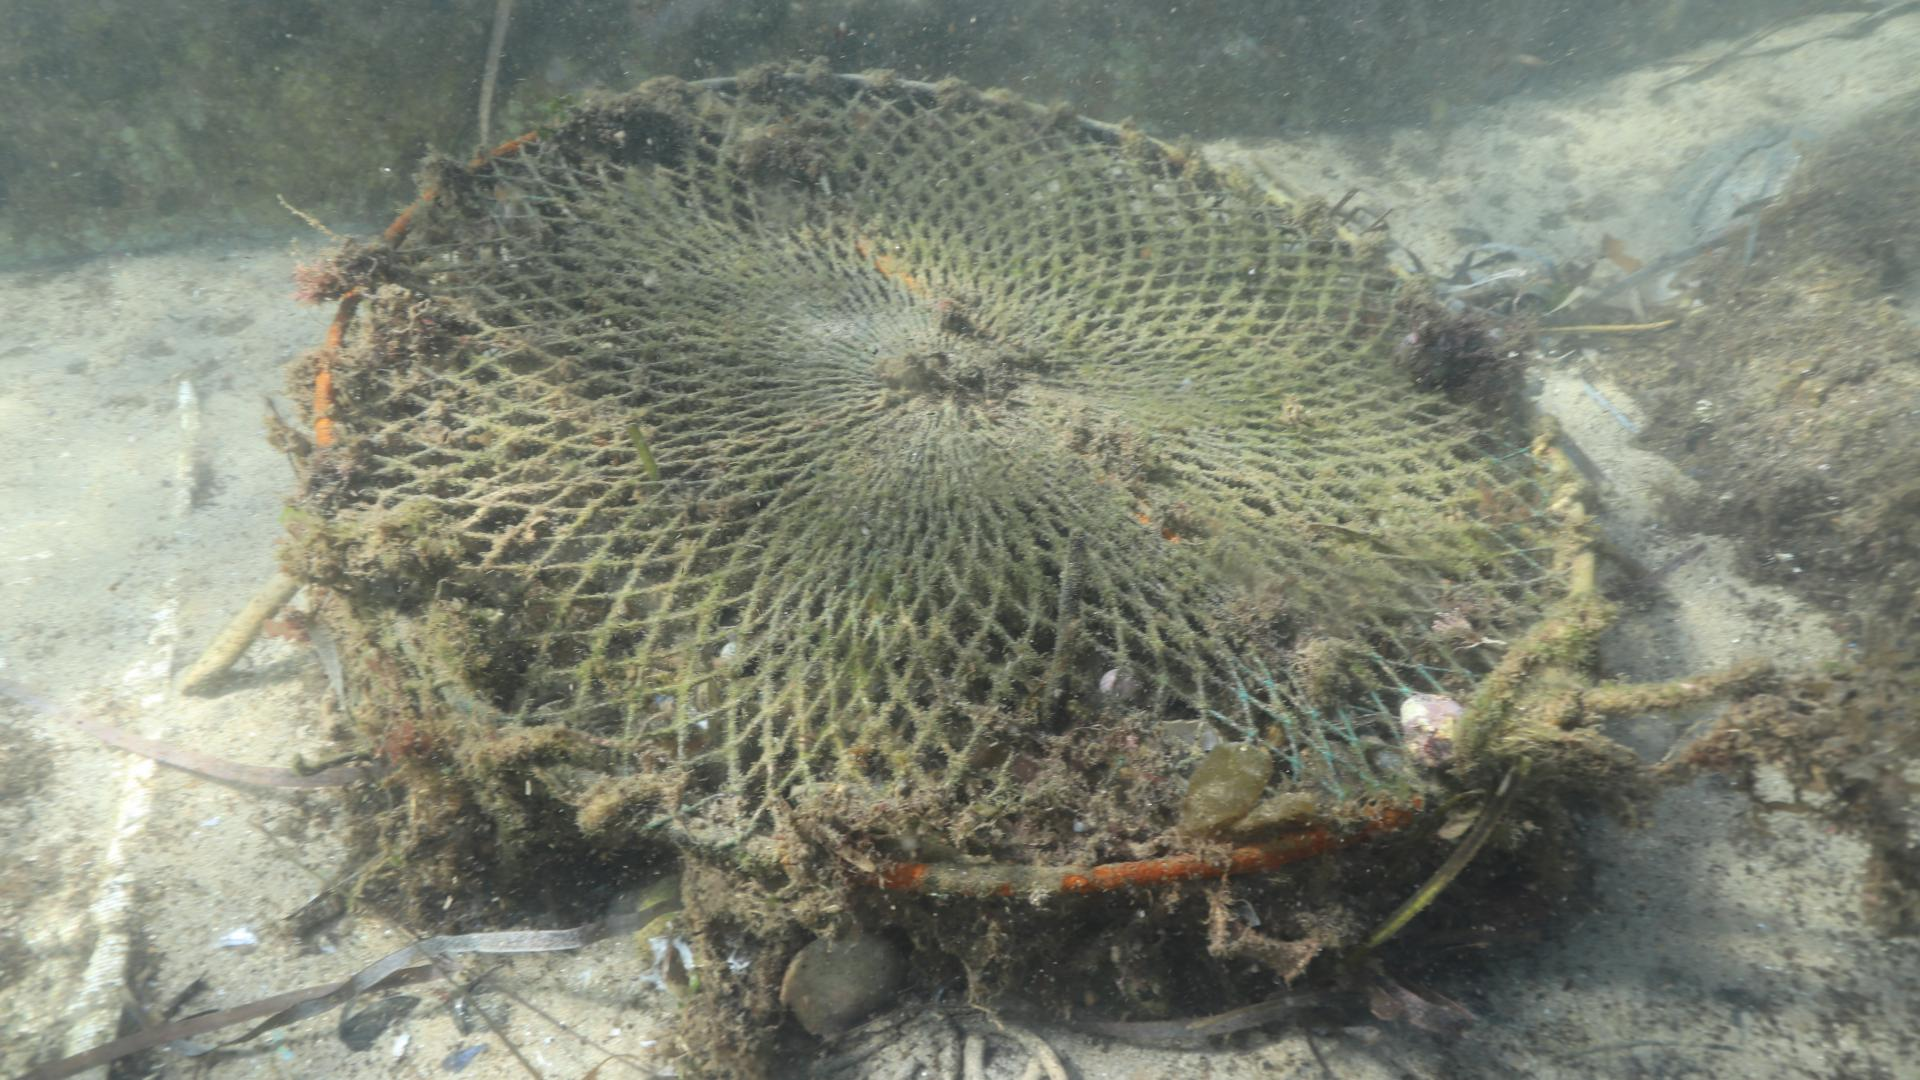circular fish trap: (305, 61, 1601, 993)
